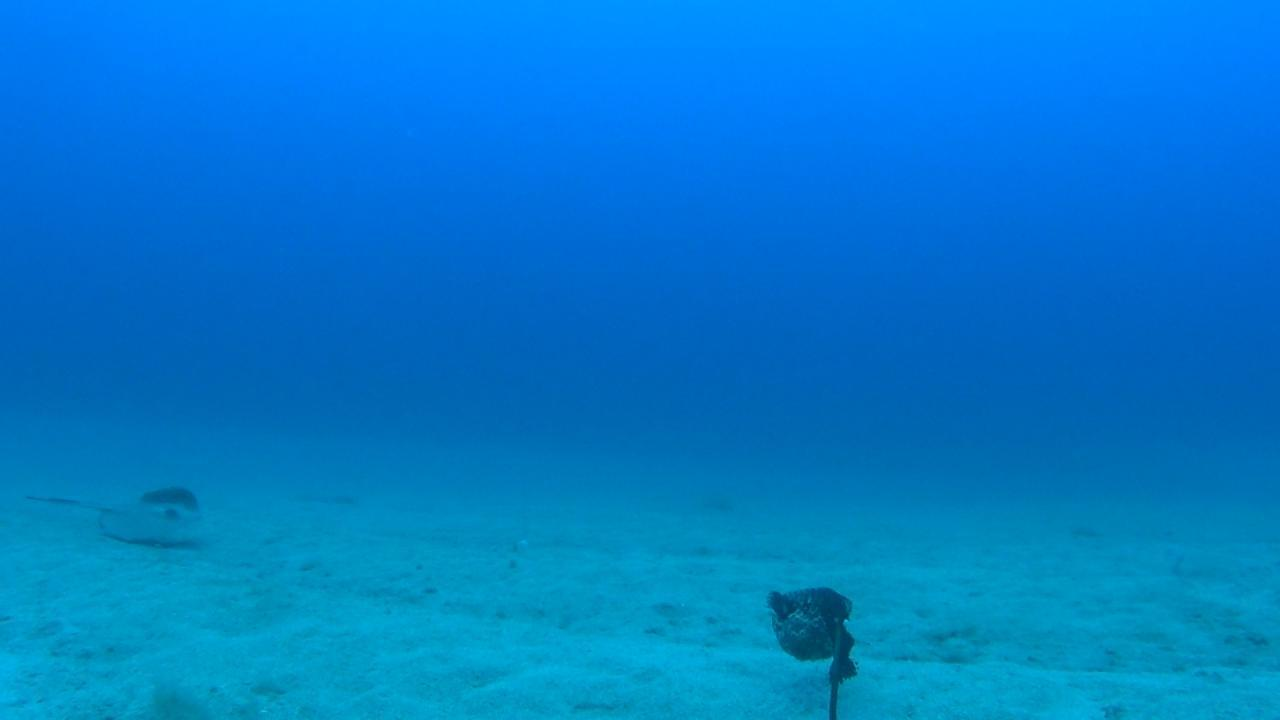dasyatis: (26, 485, 208, 546)
